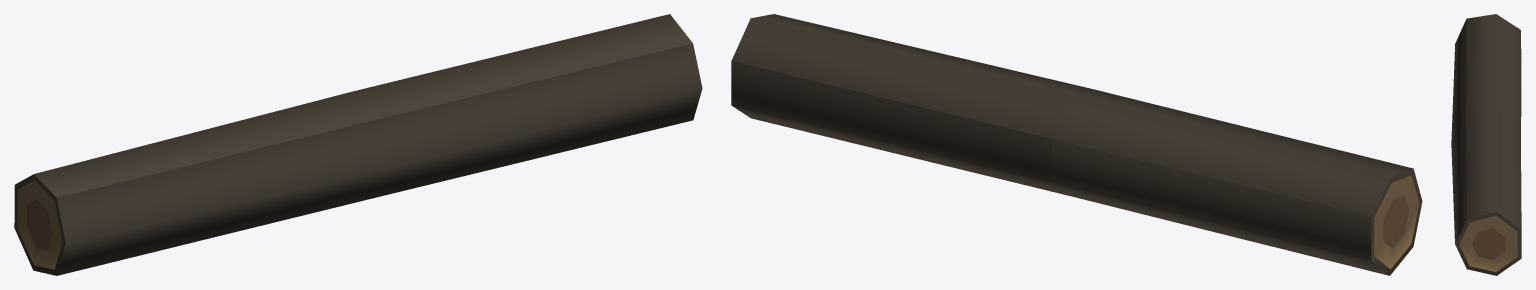
The model's file is rail.glb.
3 renders of one model, left to right at view 1: azimuth 30°, elevation 25°; view 2: azimuth 150°, elevation 25°; view 3: azimuth 270°, elevation 25°, orthographic. The views are drawn at different scales.
Parts seen in each view (by area): view 1: log-001; view 2: log-001; view 3: log-001.
Part boxes in pixels (x1,y1,x2,y2): log-001: (14,14,702,275); log-001: (731,14,1422,275); log-001: (1451,14,1521,275).
Size of the model in its own units: 1 by 0.152 by 0.1482.
